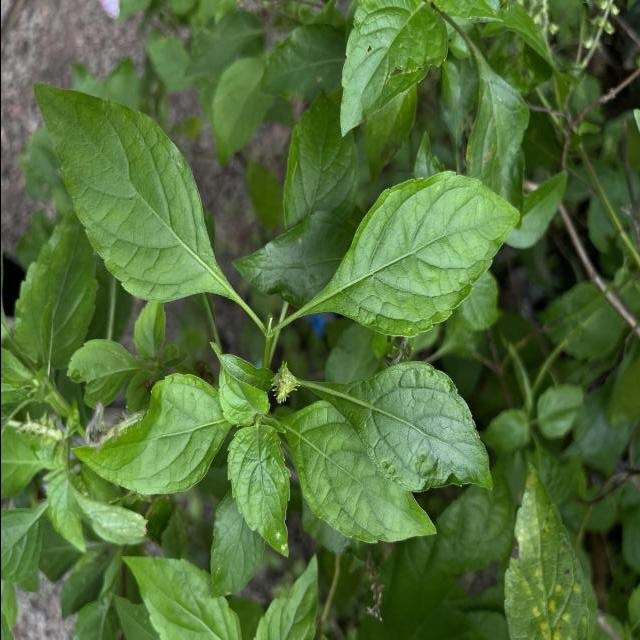Ocimum gratissimum: (26, 78, 258, 306), (286, 168, 524, 342), (295, 356, 496, 498), (273, 396, 442, 550), (64, 370, 239, 500), (332, 0, 453, 144), (222, 421, 293, 562)
